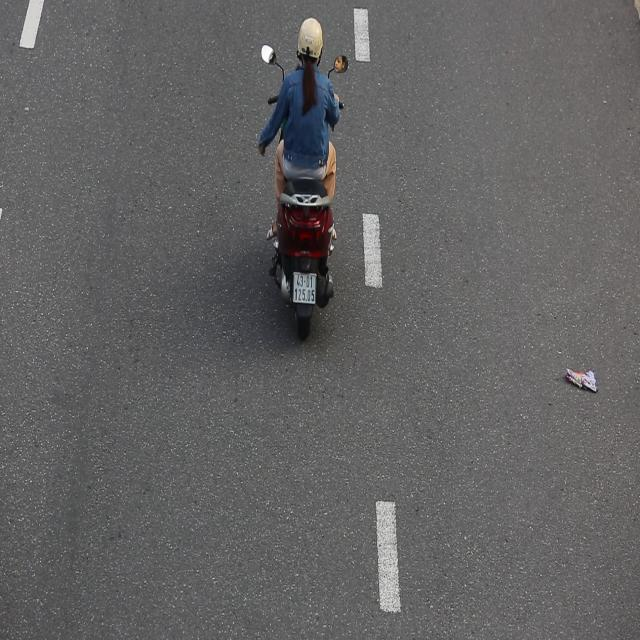motorbike: (255, 16, 349, 347)
